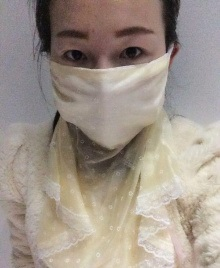face_mask: (49, 0, 163, 145)
